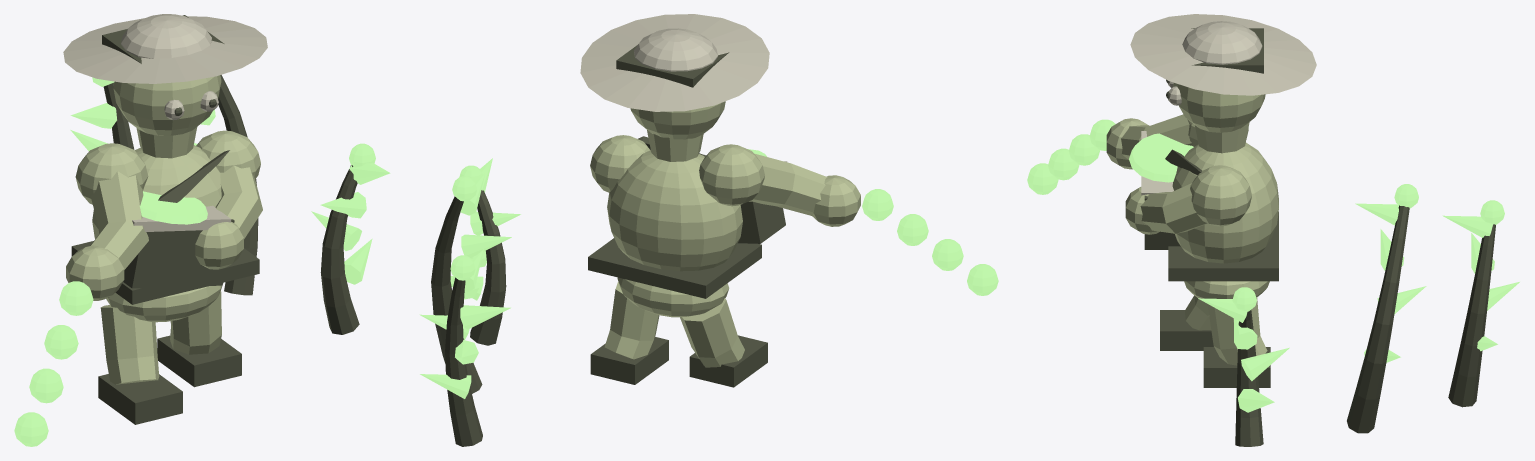
File: sower_chibi.glb
3 views of the same model, side by side, from view 1: azimuth 30°, elevation 25°; view 2: azimuth 150°, elevation 25°; view 3: azimuth 270°, elevation 25° (orthographic). The views are drawn at different scales.
Visible parts, largest first — view 1: sower_chibi_body, sower_chibi_dark, sower_chibi_bone, sower_chibi_glow; view 2: sower_chibi_body, sower_chibi_dark, sower_chibi_bone, sower_chibi_glow; view 3: sower_chibi_body, sower_chibi_dark, sower_chibi_bone, sower_chibi_glow.
Boxes of the visible parts, left/top/right/bottom form: sower_chibi_body: left=66, top=75, right=262, bottom=384; sower_chibi_dark: left=71, top=15, right=359, bottom=424; sower_chibi_bone: left=63, top=14, right=267, bottom=231; sower_chibi_glow: left=14, top=77, right=390, bottom=446; sower_chibi_body: left=590, top=101, right=860, bottom=367; sower_chibi_dark: left=431, top=45, right=785, bottom=446; sower_chibi_bone: left=580, top=14, right=787, bottom=162; sower_chibi_glow: left=419, top=149, right=998, bottom=398; sower_chibi_body: left=1106, top=83, right=1278, bottom=365; sower_chibi_dark: left=1144, top=28, right=1495, bottom=446; sower_chibi_bone: left=1130, top=14, right=1316, bottom=195; sower_chibi_glow: left=1027, top=119, right=1519, bottom=412.
Size of the model in its own units: 3.29 by 2.4 by 3.2.
